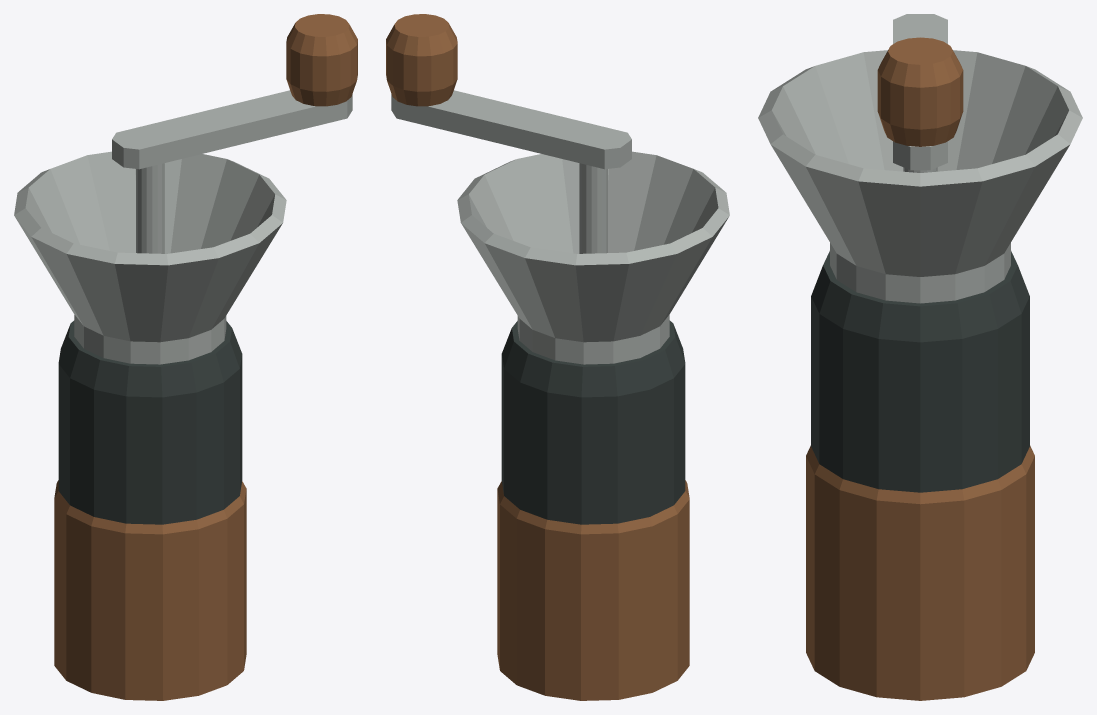
The picture shows the model from 3 angles, left to right: view 1: azimuth 30°, elevation 25°; view 2: azimuth 150°, elevation 25°; view 3: azimuth 270°, elevation 25°; orthographic projection. The views are drawn at different scales.
Parts seen in each view (by area): view 1: Continuous_OpenFlaredHopper, BlindBottom_GroundsCup, FixedTaperShoulder_Barrel, ElevatedOffset_CrankArm, FacetedWood_CrankKnob, FixedCentral_Spindle; view 2: Continuous_OpenFlaredHopper, BlindBottom_GroundsCup, FixedTaperShoulder_Barrel, ElevatedOffset_CrankArm, FacetedWood_CrankKnob, FixedCentral_Spindle; view 3: Continuous_OpenFlaredHopper, BlindBottom_GroundsCup, FixedTaperShoulder_Barrel, FacetedWood_CrankKnob, ElevatedOffset_CrankArm.
Part boxes in pixels (x1,y1,x2,y2): Continuous_OpenFlaredHopper: (14,151,286,364); BlindBottom_GroundsCup: (54,480,246,700); FixedTaperShoulder_Barrel: (58,320,242,524); ElevatedOffset_CrankArm: (112,90,352,169); FacetedWood_CrankKnob: (286,14,357,106); FixedCentral_Spindle: (136,163,164,253); Continuous_OpenFlaredHopper: (457,151,729,364); BlindBottom_GroundsCup: (497,480,689,700); FixedTaperShoulder_Barrel: (501,320,685,524); ElevatedOffset_CrankArm: (391,90,631,169); FacetedWood_CrankKnob: (386,14,457,106); FixedCentral_Spindle: (579,163,607,253); Continuous_OpenFlaredHopper: (758,50,1082,303); BlindBottom_GroundsCup: (806,445,1034,700); FixedTaperShoulder_Barrel: (811,251,1029,492); FacetedWood_CrankKnob: (877,37,963,146); ElevatedOffset_CrankArm: (893,14,947,170).
Size of the model in its own units: 0.257 by 0.452 by 0.19.
